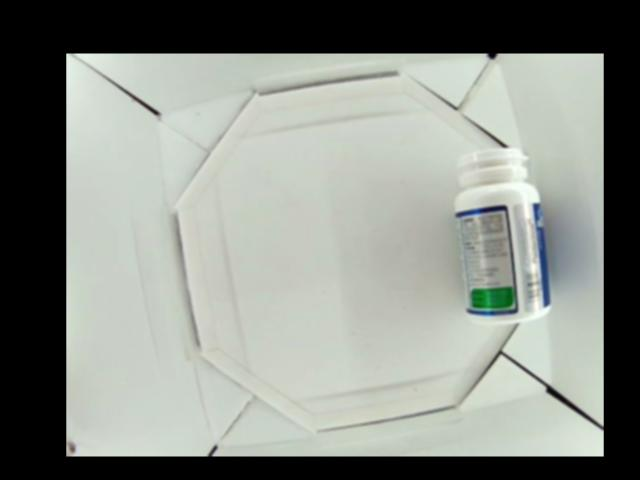Bottle: (456, 148, 554, 318)
